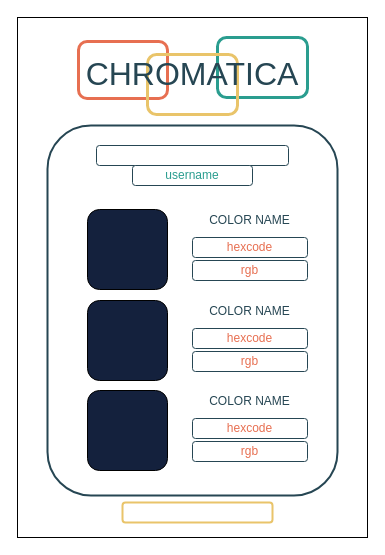
Image size: 385x555. Some labels were removed from this diagram. Here are the shapes that lost their labels. From the top down, the centre of each, then its label:
At [192,155]: "Palette Name".
At [197,512]: "pick for me!".
